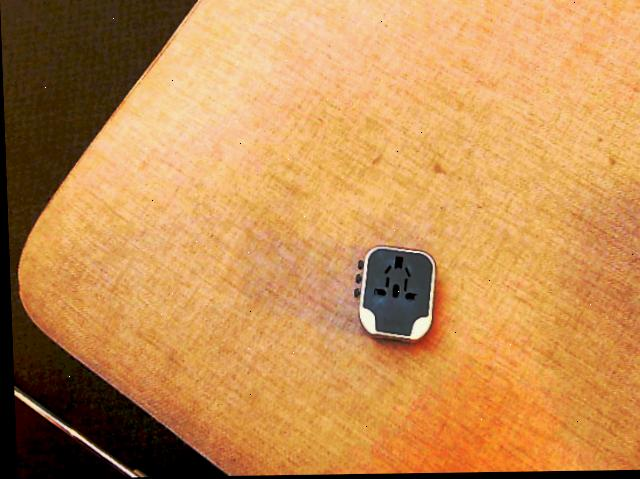adapter: (351, 246, 435, 344)
